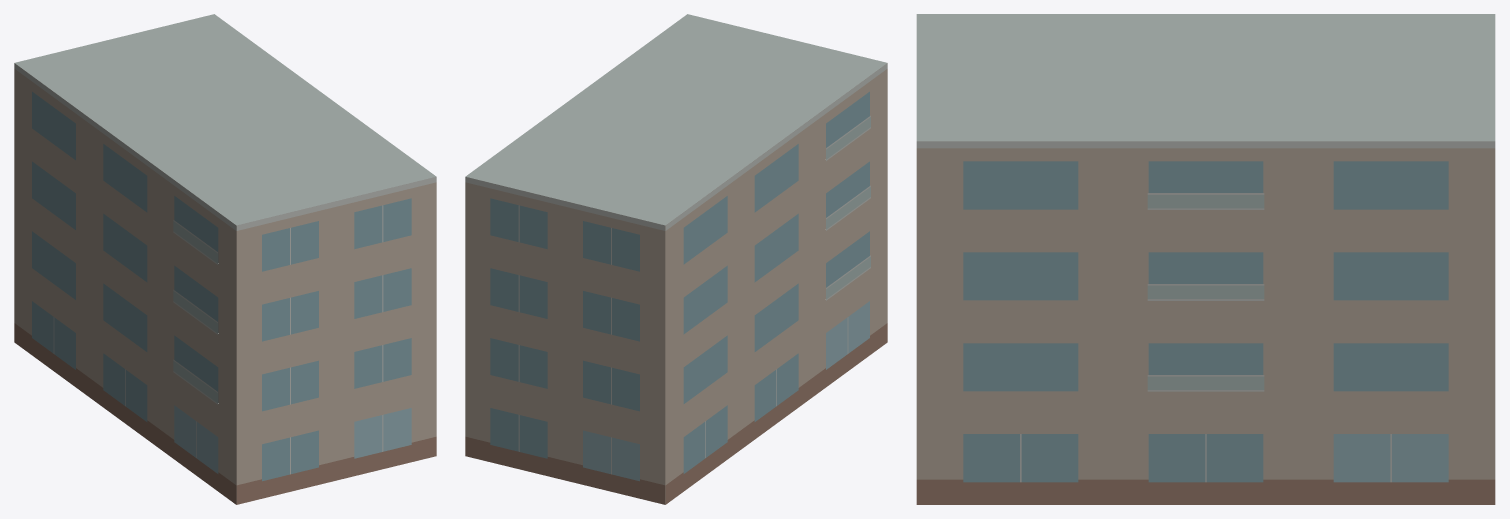
Rendered from residential-b7198bc6-349f-4d7e-b5cc-58f1acaf45cf.glb.
3 views of the same model, side by side, from view 1: azimuth 30°, elevation 25°; view 2: azimuth 150°, elevation 25°; view 3: azimuth 270°, elevation 25° (orthographic). The views are drawn at different scales.
Visible parts, largest first — view 1: residential-b7198bc6-349f-4d7e-b5cc-58f1acaf45cf.tmp; view 2: residential-b7198bc6-349f-4d7e-b5cc-58f1acaf45cf.tmp; view 3: residential-b7198bc6-349f-4d7e-b5cc-58f1acaf45cf.tmp.
Boxes of the visible parts, <box> form: residential-b7198bc6-349f-4d7e-b5cc-58f1acaf45cf.tmp: <box>14,14,436,504</box>; residential-b7198bc6-349f-4d7e-b5cc-58f1acaf45cf.tmp: <box>465,14,887,504</box>; residential-b7198bc6-349f-4d7e-b5cc-58f1acaf45cf.tmp: <box>916,14,1495,504</box>.
Bounding box in the file's own units: 9.23 × 12.2 × 17.61.
